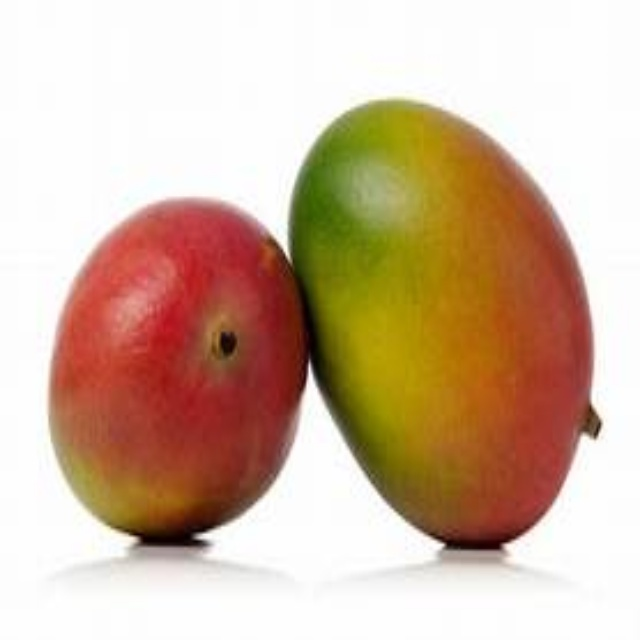mango: (289, 96, 606, 551), (51, 198, 314, 538)
